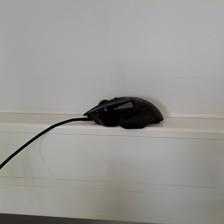mouse: (82, 95, 165, 130)
